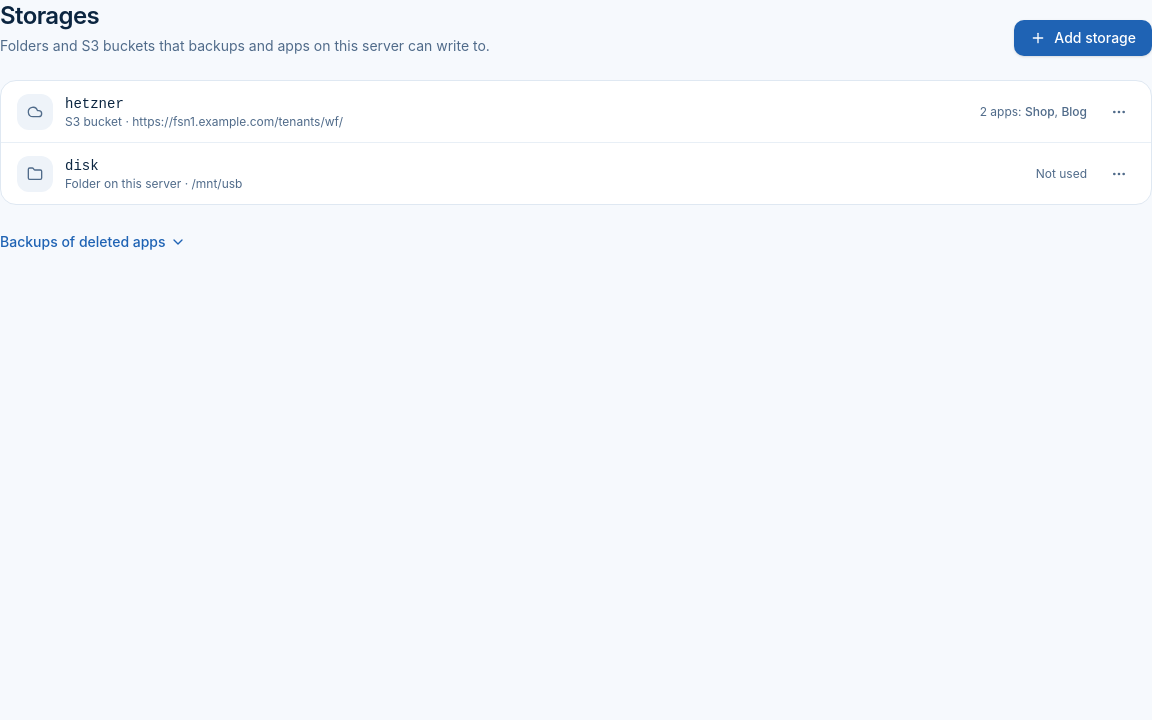
it: StoragesSettings › reports a refused save inside the dialog, which stays open
Click the button named "Actions for disk": (1119, 174) x1=1103 y1=158 x2=1135 y2=190
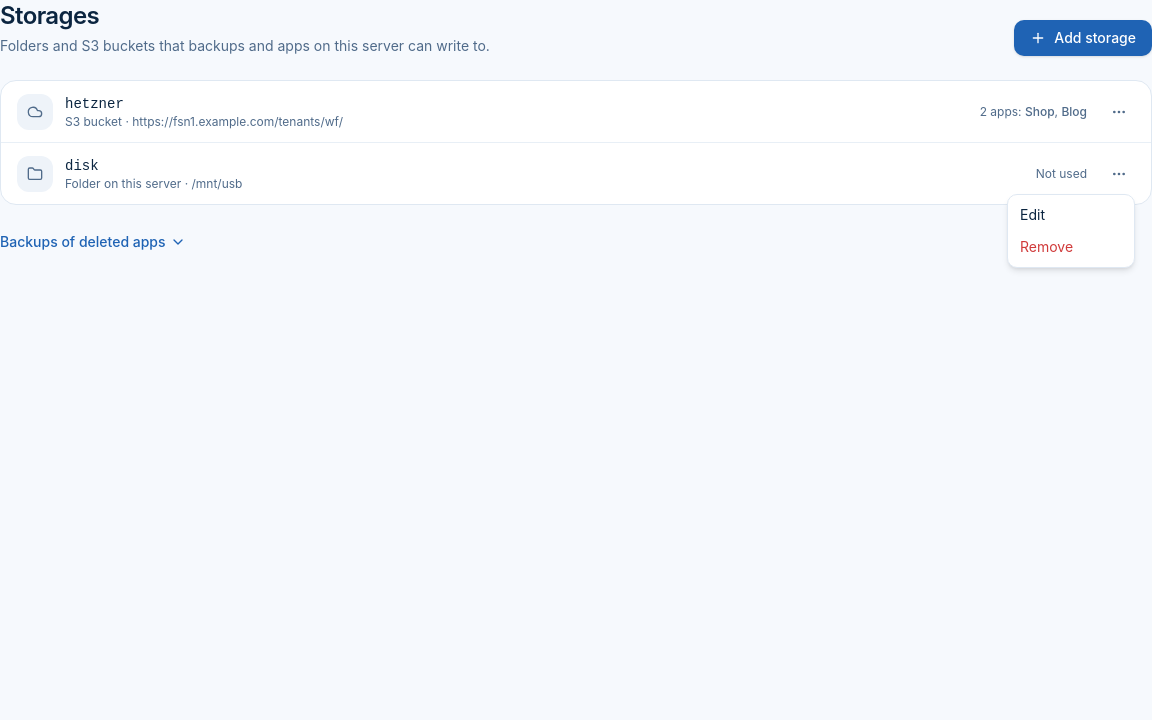
Click the menu item "Edit": (1032, 214) x1=1020 y1=206 x2=1045 y2=223
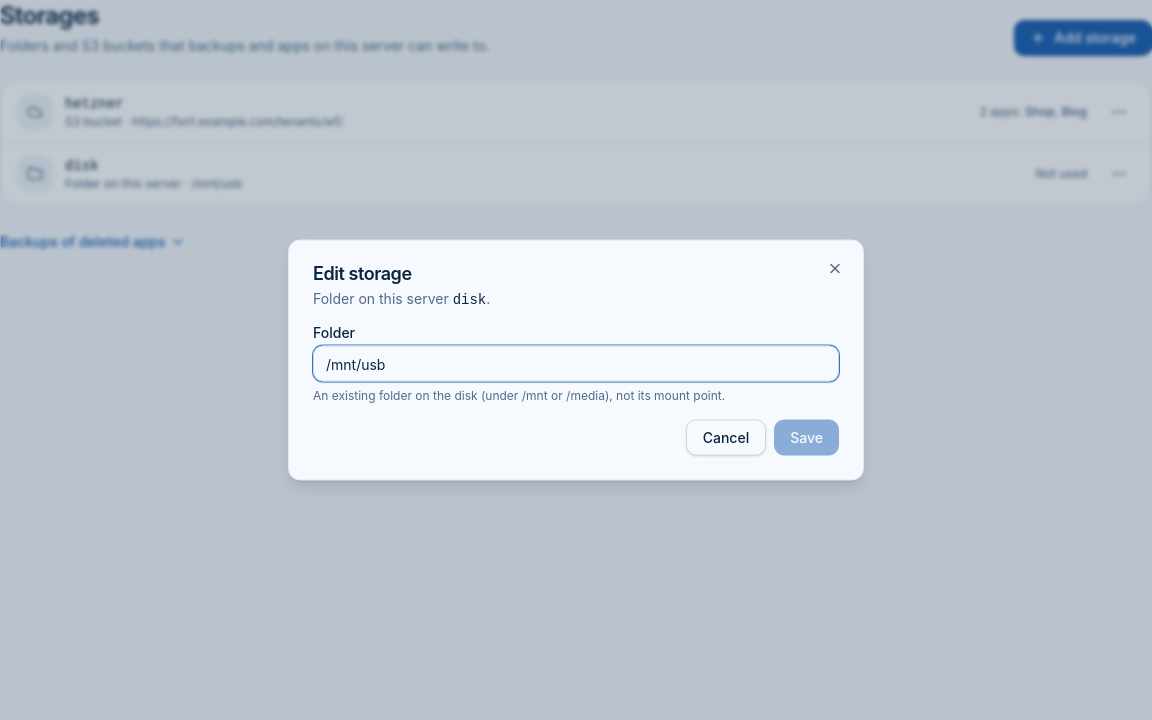
In the field labelled "Folder": (576, 364) x1=313 y1=346 x2=839 y2=382, type "2"
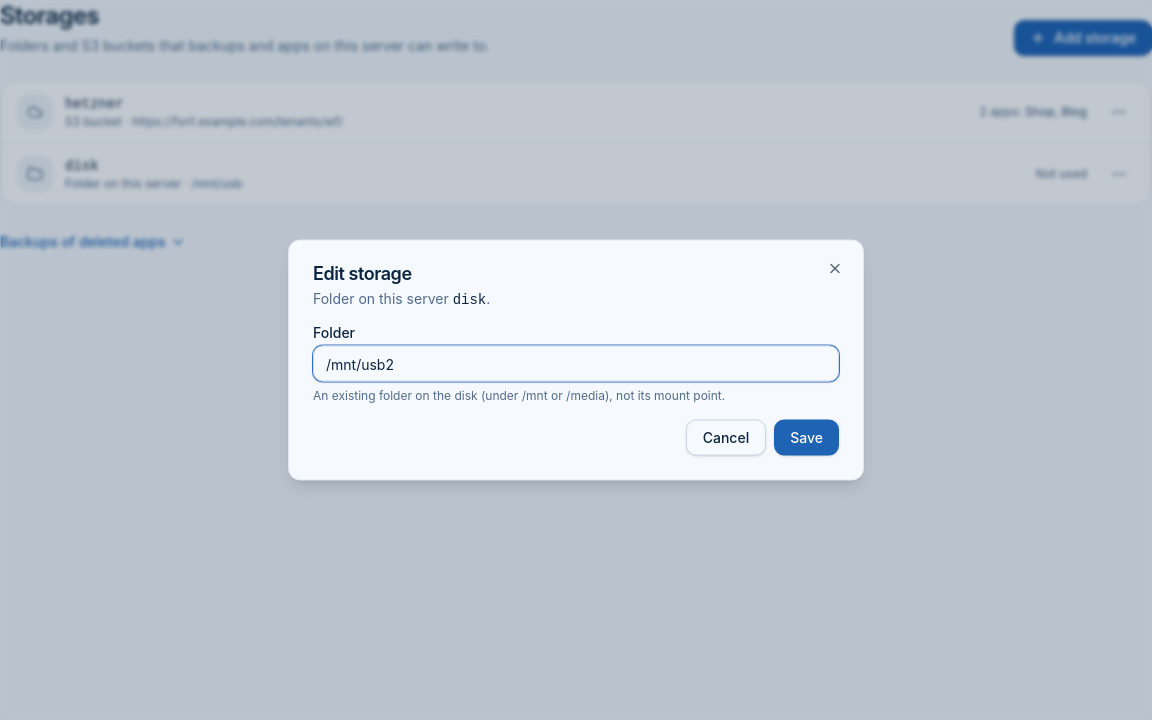
Click the button "Save": (807, 438) x1=774 y1=420 x2=839 y2=456
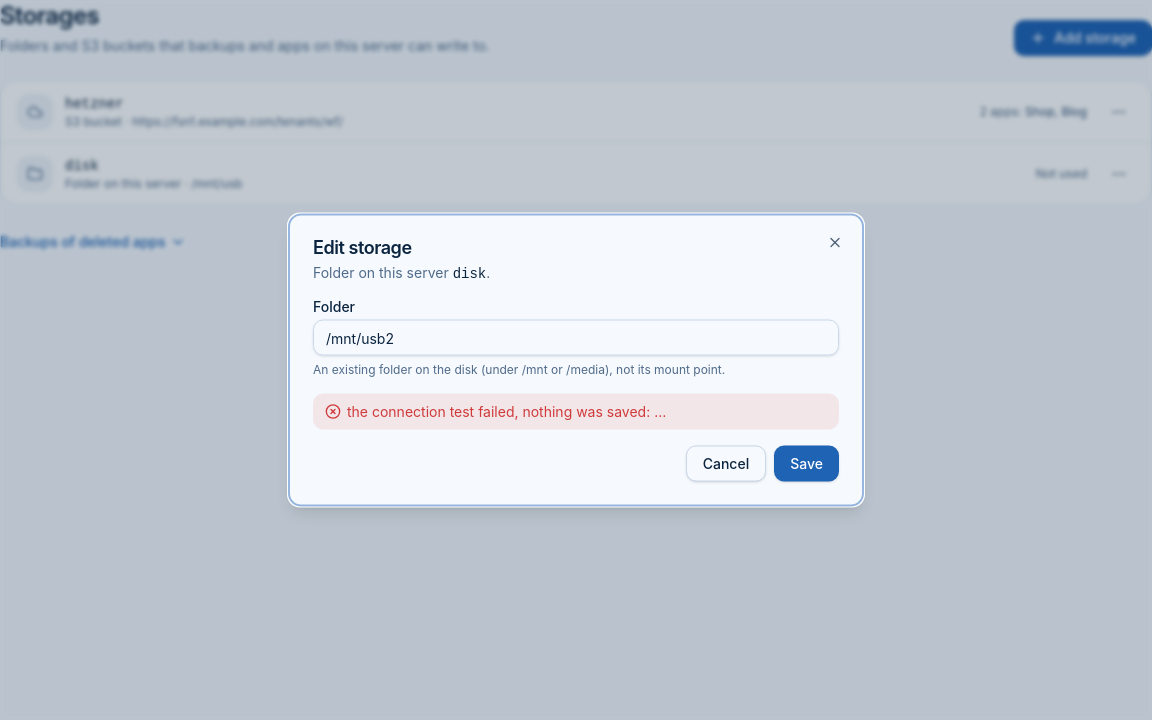
Expected: the dialog is shown, x1=288 y1=214 x2=864 y2=506
Expected: the message reads "the connection test failed, nothing was saved: …", x1=347 y1=402 x2=666 y2=420
In the field labelled "Folder": (576, 338) x1=313 y1=320 x2=839 y2=356, type "3"
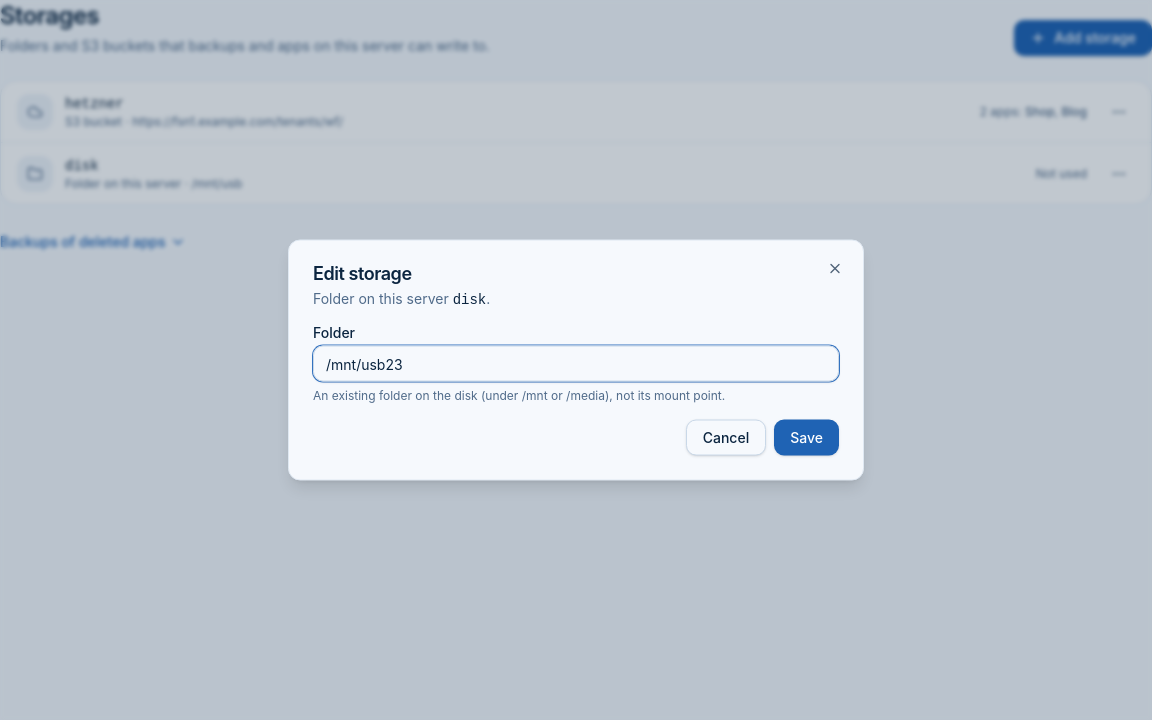
Expected: the message "the connection test failed, nothing was saved: …" is gone
